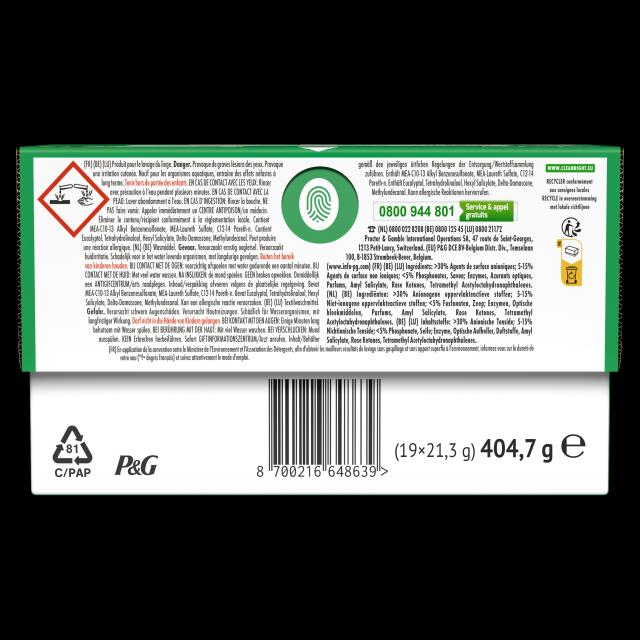GHS_Symbol_CORROSION: (37, 161, 109, 238)
